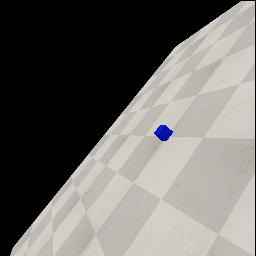box: (154, 125, 173, 141)
